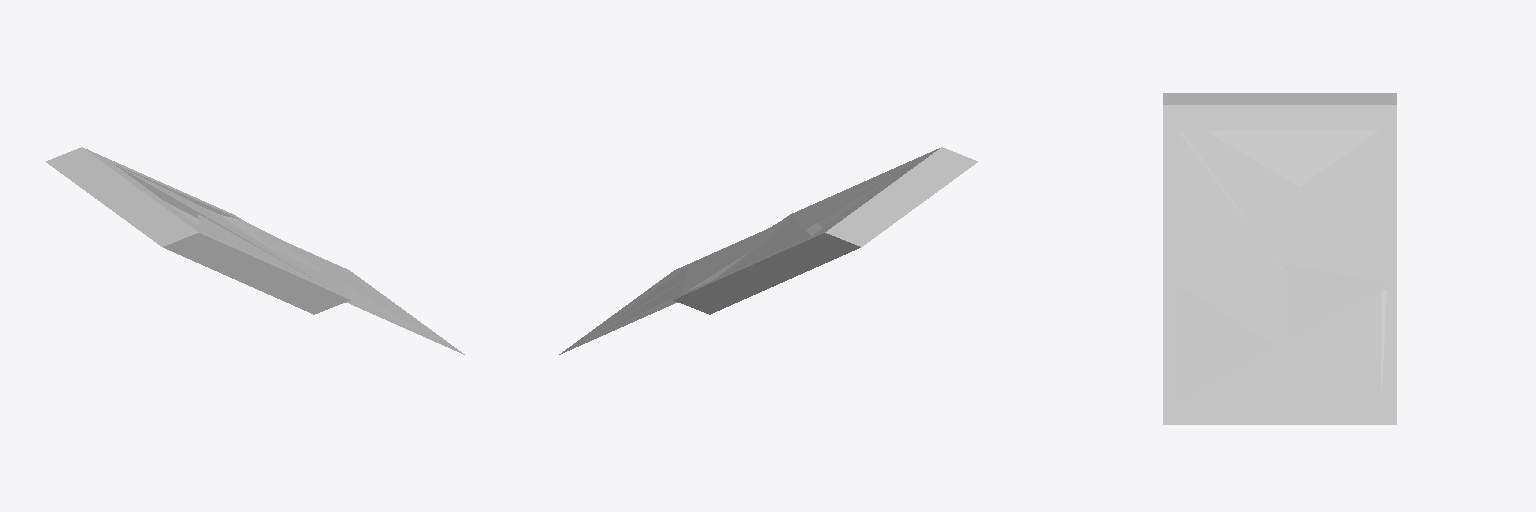
The model's file is Block object.obj.
3 views of the same model, side by side, from view 1: azimuth 30°, elevation 25°; view 2: azimuth 150°, elevation 25°; view 3: azimuth 270°, elevation 25° (orthographic).
Visible parts, largest first — view 1: C_Ext001, ChamferBox001; view 2: C_Ext001, ChamferBox001; view 3: ChamferBox001, C_Ext001.
Boxes of the visible parts, box(x1,y1,x2,y2) form: C_Ext001: box(46, 147, 350, 314); ChamferBox001: box(113, 163, 464, 354); C_Ext001: box(673, 147, 977, 314); ChamferBox001: box(559, 163, 910, 354); ChamferBox001: box(1163, 130, 1396, 424); C_Ext001: box(1163, 93, 1396, 283).
Bounding box in the file's own units: 61.19 × 36.21 × 40.69.